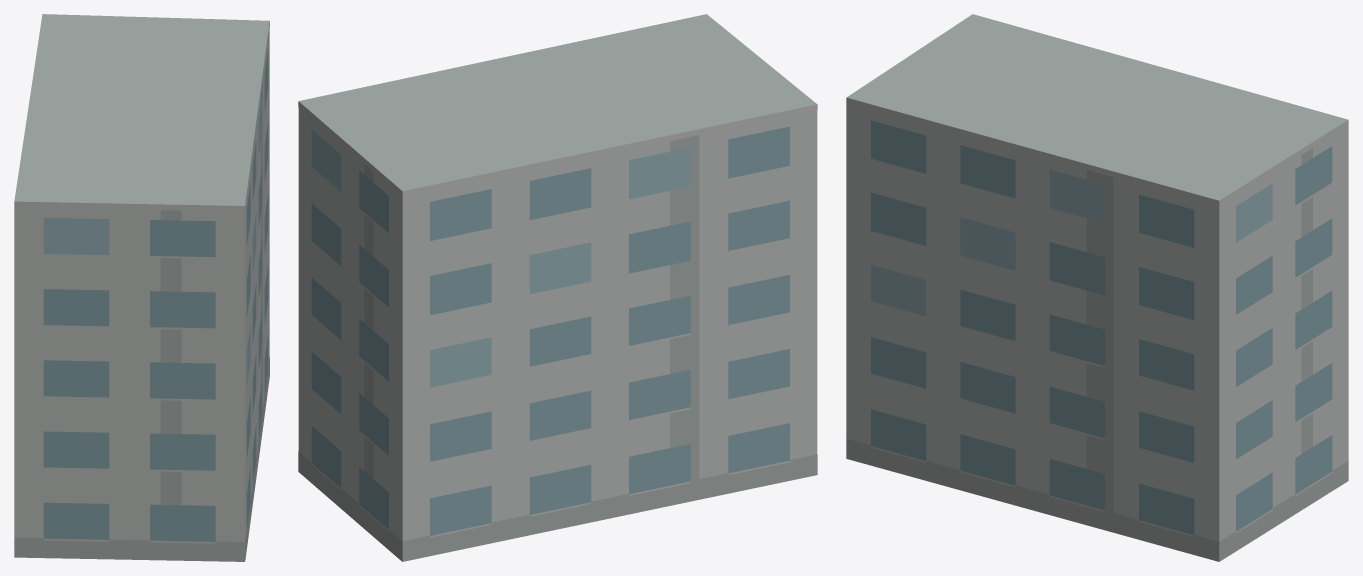
The model's file is survey-upis-32985133.glb.
The picture shows the model from 3 angles, left to right: view 1: azimuth 30°, elevation 25°; view 2: azimuth 150°, elevation 25°; view 3: azimuth 270°, elevation 25°; orthographic projection. The views are drawn at different scales.
Visible parts, largest first — view 1: survey-upis-32985133.tmp; view 2: survey-upis-32985133.tmp; view 3: survey-upis-32985133.tmp.
Part boxes in pixels (x1=…): survey-upis-32985133.tmp: x1=14, y1=14, x2=269, y2=561; survey-upis-32985133.tmp: x1=298, y1=14, x2=817, y2=561; survey-upis-32985133.tmp: x1=846, y1=14, x2=1348, y2=561.
Bounding box in the file's own units: 16.63 × 15 × 18.91.
